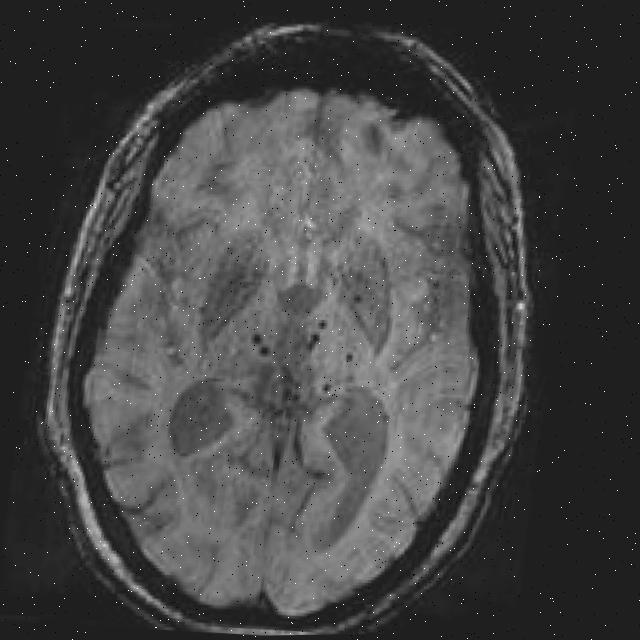NoTumor: (11, 3, 570, 639)
